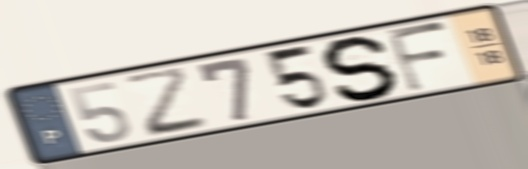5: (257, 43, 329, 112), (64, 78, 133, 144)
7: (192, 55, 254, 123)
F: (382, 19, 453, 95)
S: (319, 33, 403, 102)
Z: (119, 63, 215, 140)
